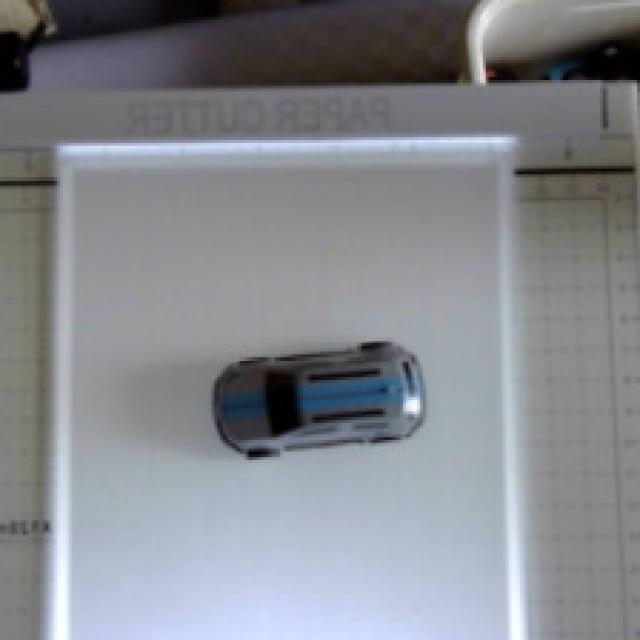Grey Car: (184, 317, 472, 504)
